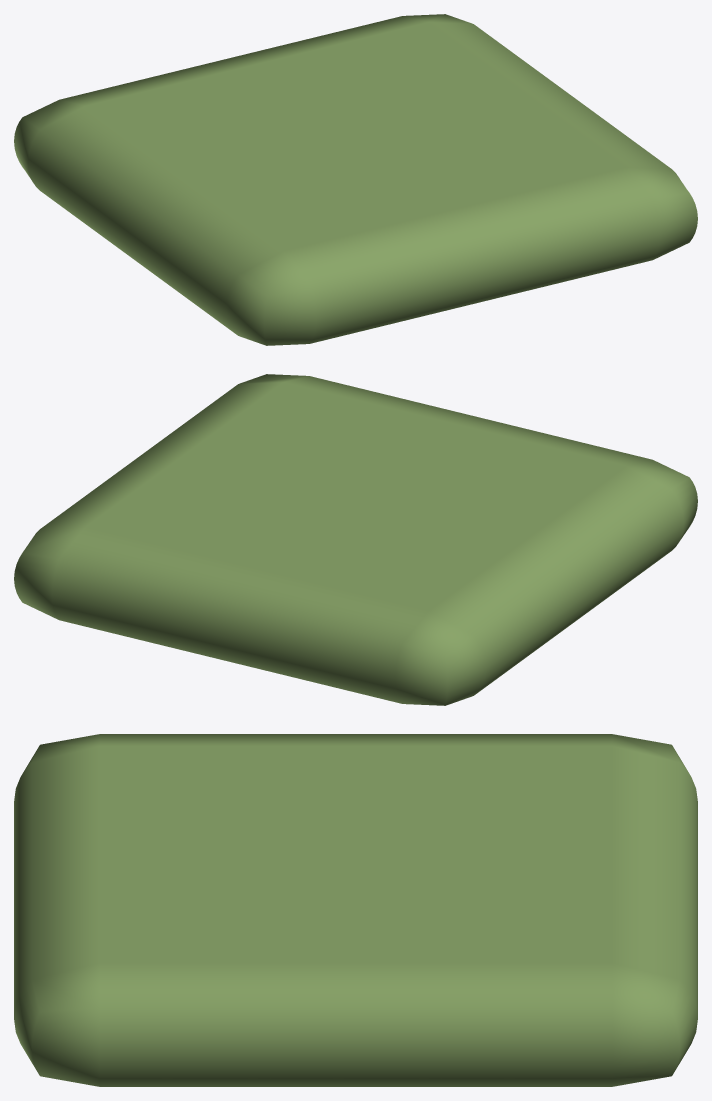
File: grass-light.glb
3 views of the same model, one above another, from view 1: azimuth 30°, elevation 25°; view 2: azimuth 150°, elevation 25°; view 3: azimuth 270°, elevation 25° (orthographic). The views are drawn at different scales.
Visible parts, largest first — view 1: grass-light; view 2: grass-light; view 3: grass-light.
Boxes of the visible parts, x1,y1,x2,y2 form: grass-light: (14, 14, 697, 345); grass-light: (14, 374, 697, 705); grass-light: (14, 734, 697, 1086).
Size of the model in its own units: 1 by 0.18 by 1.
